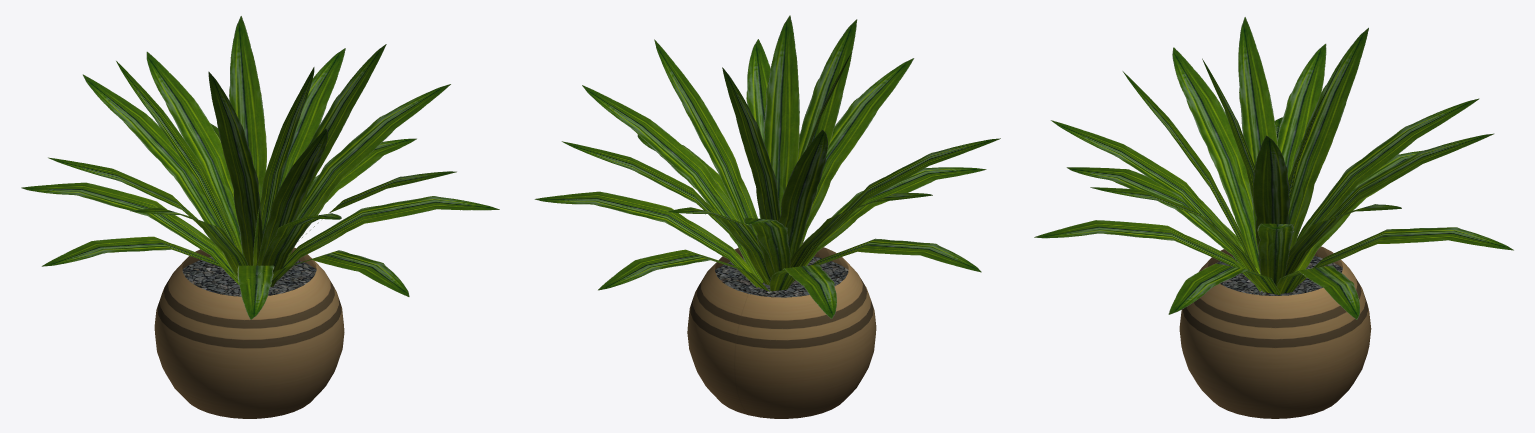
File: plant3.FBX
The picture shows the model from 3 angles, left to right: view 1: azimuth 30°, elevation 25°; view 2: azimuth 150°, elevation 25°; view 3: azimuth 270°, elevation 25°; orthographic projection.
Parts seen in each view (by area): view 1: plant3; view 2: plant3; view 3: plant3.
Part boxes in pixels (x1,y1,x2,y2): plant3: [21, 16, 499, 418]; plant3: [534, 15, 1000, 418]; plant3: [1034, 17, 1513, 418].
Size of the model in its own units: 14.51 by 14.64 by 11.43.
